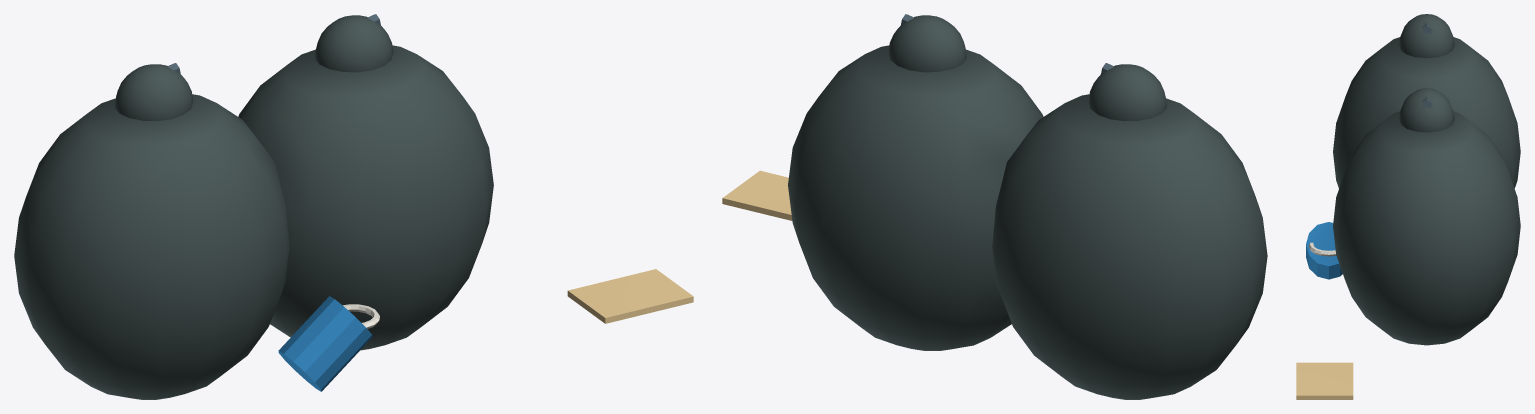
File: waste-partial.glb
3 views of the same model, side by side, from view 1: azimuth 30°, elevation 25°; view 2: azimuth 150°, elevation 25°; view 3: azimuth 270°, elevation 25° (orthographic). The views are drawn at different scales.
Parts seen in each view (by area): view 1: tied rubbish bag, discarded drink can, carton fold; view 2: tied rubbish bag, carton fold; view 3: tied rubbish bag, carton fold, discarded drink can.
Boxes of the visible parts, x1=… form: tied rubbish bag: x1=14, y1=15, x2=493, y2=399; discarded drink can: x1=278, y1=296, x2=372, y2=391; carton fold: x1=567, y1=269, x2=693, y2=323; tied rubbish bag: x1=788, y1=15, x2=1267, y2=399; carton fold: x1=722, y1=170, x2=792, y2=220; tied rubbish bag: x1=1333, y1=14, x2=1520, y2=345; carton fold: x1=1296, y1=362, x2=1353, y2=399; discarded drink can: x1=1306, y1=222, x2=1342, y2=279.
Bounding box in the file's own units: 1.24 × 0.665 × 0.55.
